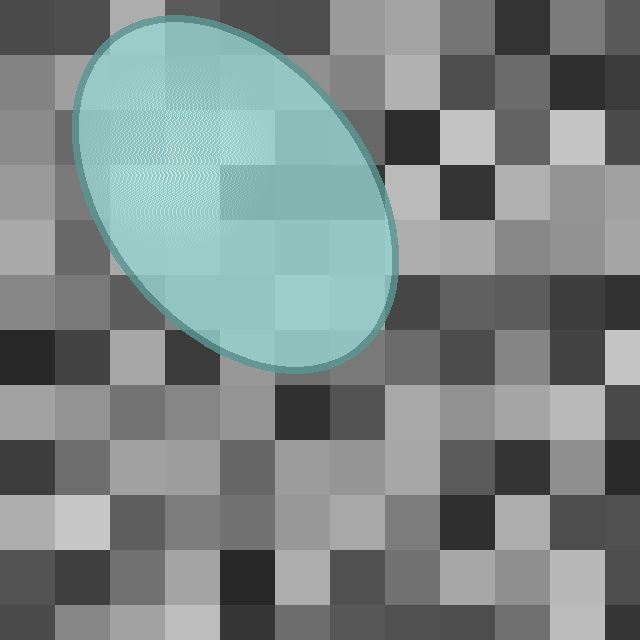lens: (75, 18, 395, 370)
